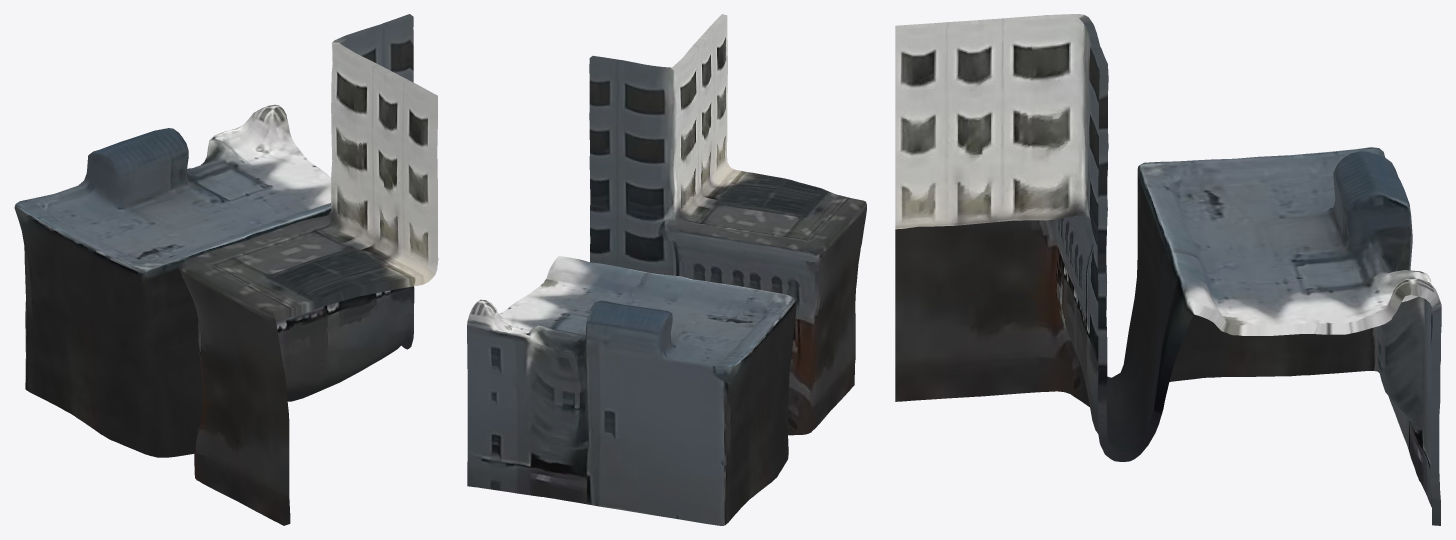
Rendered from z20-167764-405240-h1-yup-uvflip-v3-world.glb.
3 views of the same model, side by side, from view 1: azimuth 30°, elevation 25°; view 2: azimuth 150°, elevation 25°; view 3: azimuth 270°, elevation 25° (orthographic). The views are drawn at different scales.
Bounding box in the file's own units: 20.44 × 27.36 × 29.4.
1 material, 1 textured.
